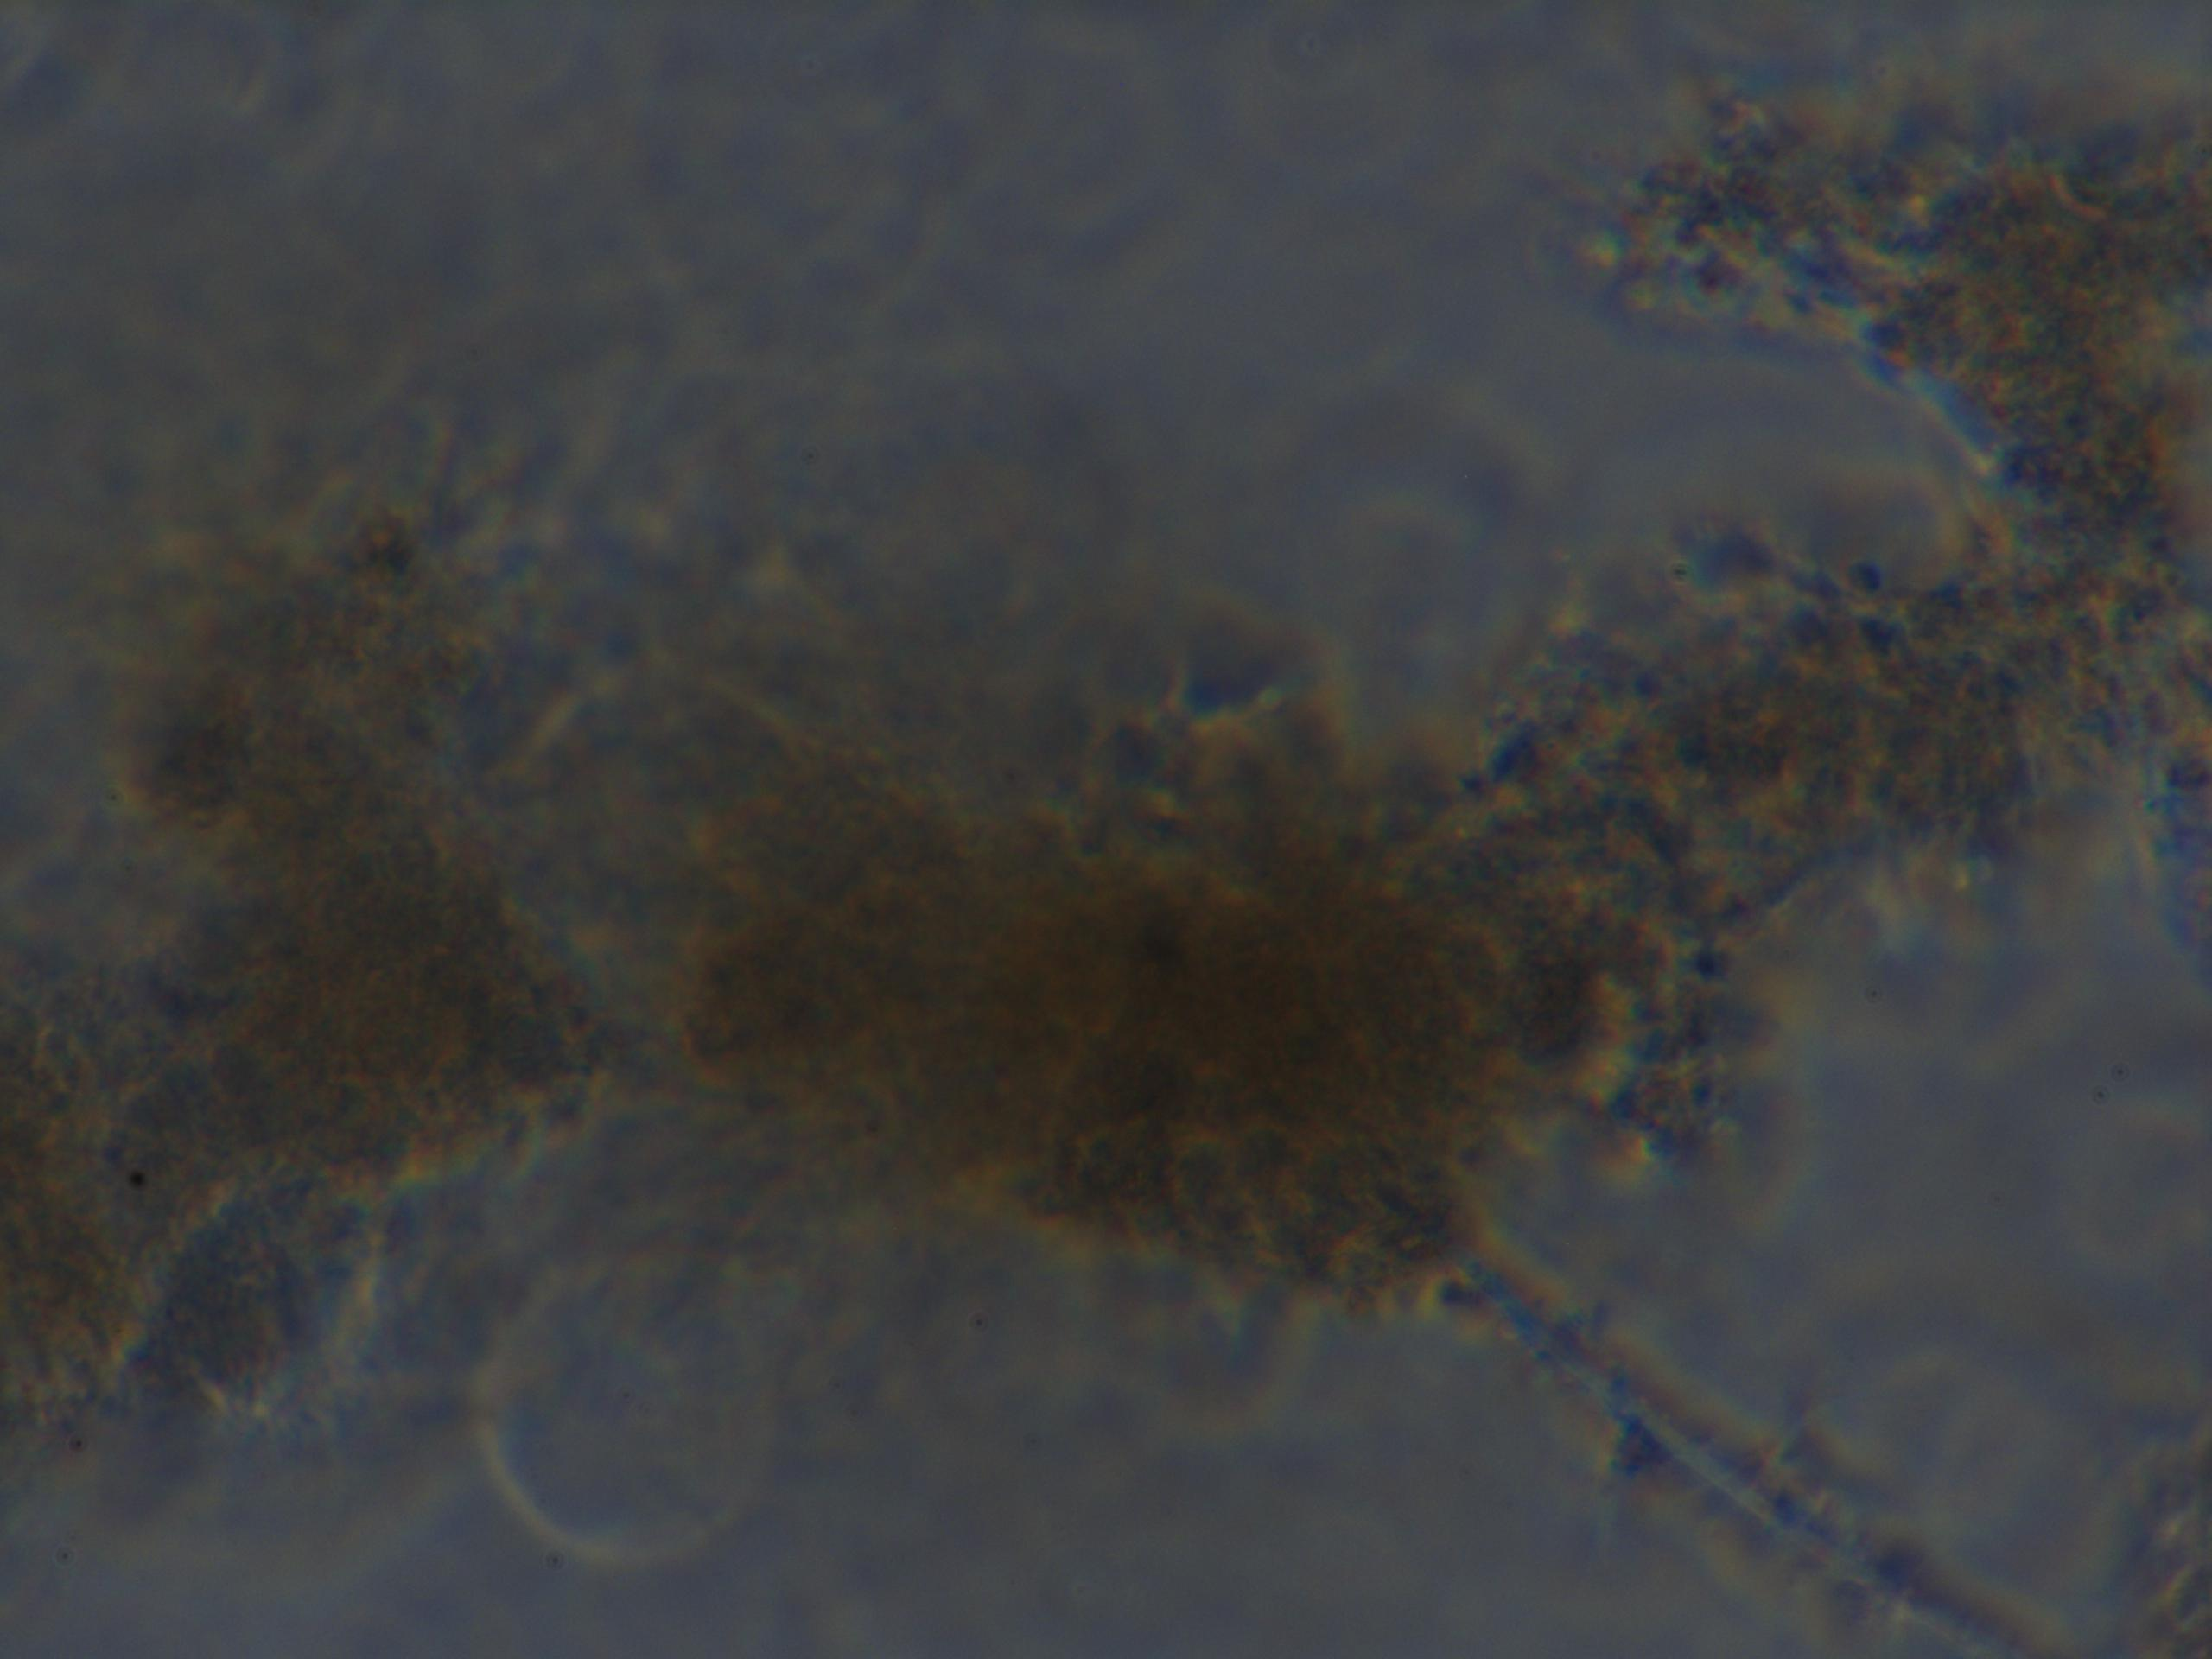filament: (1468, 1274, 2099, 1659)
